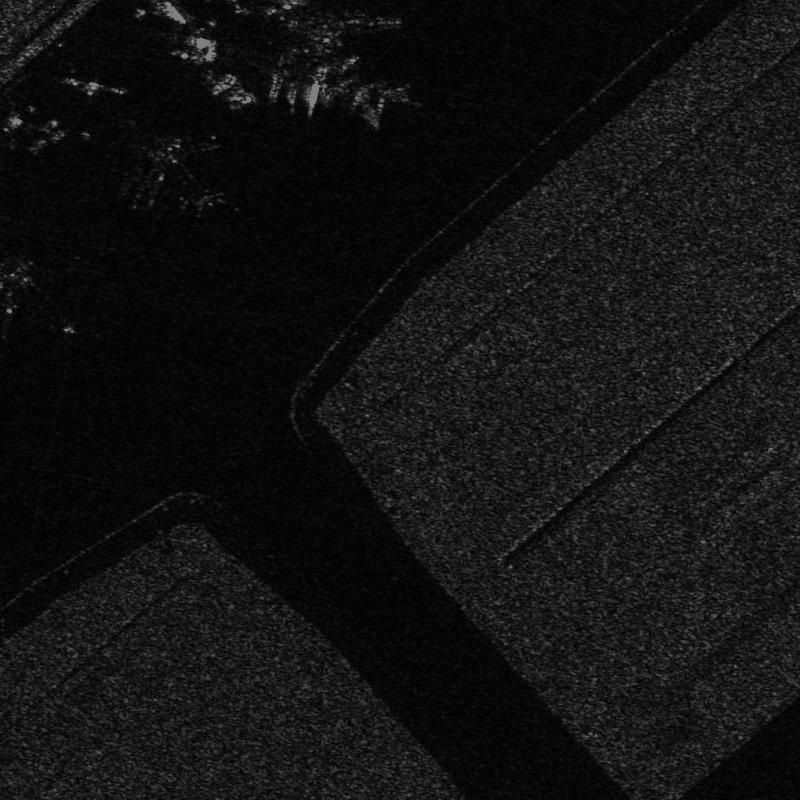Boeing737: (118, 124, 231, 221)
